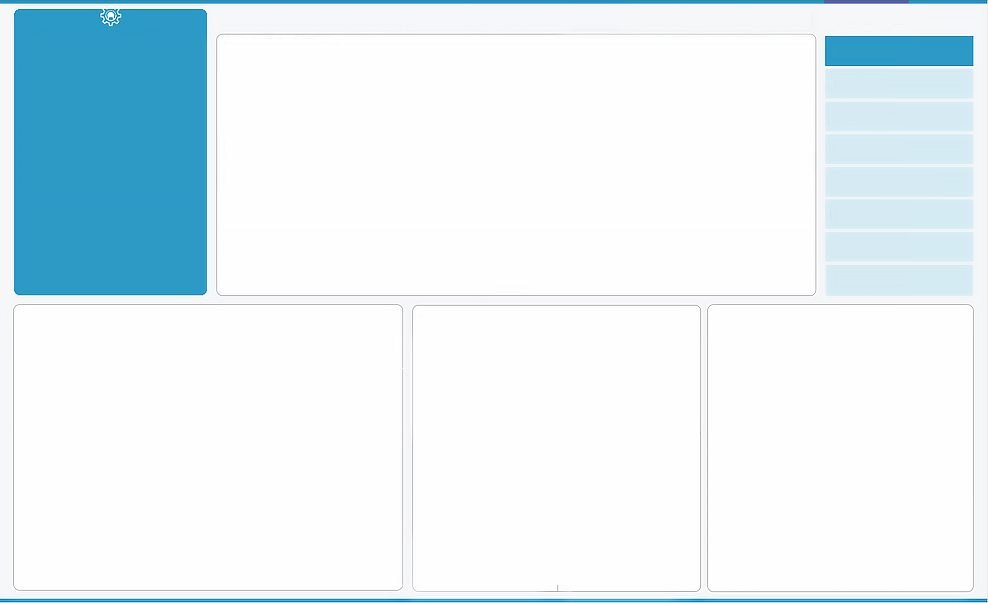

The page's visual inventory and layout, read from the dashboard file:
{"tool":"powerbi","page":{"name":"第 1 页","canvas":[1920,1080],"ordinal":0},"visuals":[{"type":"textbox","box":[1719.4,72.1,76.8,40.8],"z":0},{"type":"lineChart","title":"数据总览","fields":{"Category":["日历表.Date.变体.Date Hierarchy.Year"],"Y":["01-数据度量.01-05 权益合计","01-数据度量.01-07 税后利润","01-数据度量.01-06 营业收入","01-数据度量.01-03 负债合计","01-数据度量.01-04 资产合计","01-数据度量.01-08 销售成本"]},"box":[433.7,71.6,1143.2,440],"z":1000},{"type":"slicer","fields":{"Values":["主表项目表.科目"]},"box":[1607.2,113.3,283.1,415.3],"z":2000},{"type":"donutChart","title":"主要现金流量变动","fields":{"Y":["01-数据度量.01-10 经营活动现金流量净额","01-数据度量.01-11 投资活动现金流量净额","01-数据度量.01-12 融资活动现金流量净额"]},"box":[804.9,552.8,335.7,265.6],"z":3000},{"type":"card","fields":{"Values":["01-数据度量.01-09 现金及现金等价物净增加额"]},"box":[827.9,853.5,264.3,103.8],"z":4000},{"type":"card","fields":{"Values":["01-数据度量.01-13 现金及现金等价物期末余额"]},"box":[827.9,954.6,264.3,103.8],"z":5000},{"type":"card","fields":{"Values":["01-数据度量.01-14 资本性支出"]},"box":[1091.9,851.7,263.8,103.1],"z":6000},{"type":"card","fields":{"Values":["01-数据度量.01-15 投资购买"]},"box":[1091.9,956.3,263.8,103.1],"z":7000},{"type":"slicer","fields":{"Values":["日历表.年"]},"box":[904.7,5.9,704.3,54.5],"z":8000},{"type":"multiRowCard","fields":{"Values":["02-筛选度量.02-02 经营活动现金流量净额是否为负","02-筛选度量.02-03 投资活动现金流量净额是否为负","02-筛选度量.02-04 融资活动现金流量净额是否为负"]},"box":[1114,652.8,221,100.2],"z":9000},{"type":"pivotTable","fields":{"Rows":["资产负债表.科目"],"Values":["Sum(资产负债表.金额)"],"Columns":["资产负债表.日期"]},"box":[1382.2,552.6,508.4,506.9],"z":10000}]}

Visuals, with their boxes in screenshot pixels (x1, y1, x2, y2):
textbox: {"x1": 879, "y1": 2, "x2": 919, "y2": 23}
"数据总览" lineChart: {"x1": 202, "y1": 2, "x2": 804, "y2": 233}
slicer - 主表项目表.科目: {"x1": 820, "y1": 24, "x2": 969, "y2": 242}
"主要现金流量变动" donutChart: {"x1": 398, "y1": 255, "x2": 574, "y2": 395}
card - 01-数据度量.01-09 现金及现金等价物净增加额: {"x1": 410, "y1": 413, "x2": 549, "y2": 468}
card - 01-数据度量.01-13 现金及现金等价物期末余额: {"x1": 410, "y1": 466, "x2": 549, "y2": 521}
card - 01-数据度量.01-14 资本性支出: {"x1": 549, "y1": 412, "x2": 688, "y2": 466}
card - 01-数据度量.01-15 投资购买: {"x1": 549, "y1": 467, "x2": 688, "y2": 521}
multiRowCard - 02-筛选度量.02-02 经营活动现金流量净额是否为负 x 02-筛选度量.02-03 投资活动现金流量净额是否为负: {"x1": 560, "y1": 307, "x2": 677, "y2": 360}
pivotTable - 资产负债表.科目 x Sum(资产负债表.金额): {"x1": 701, "y1": 255, "x2": 969, "y2": 521}
